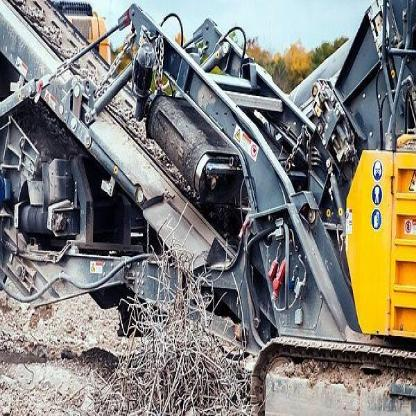rebar: (55, 204, 257, 415)
